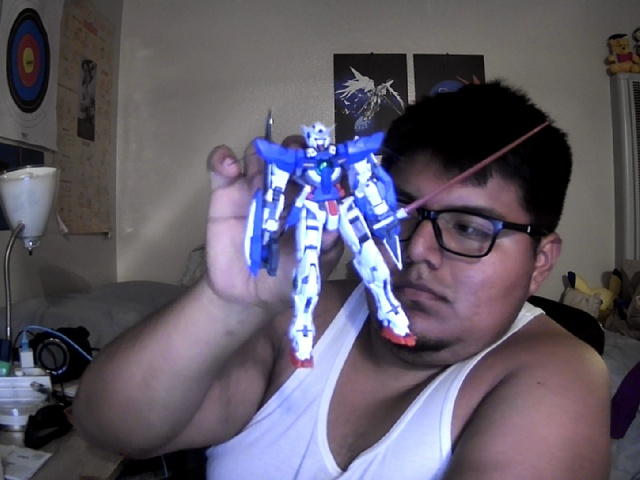Exia: (244, 107, 551, 373)
